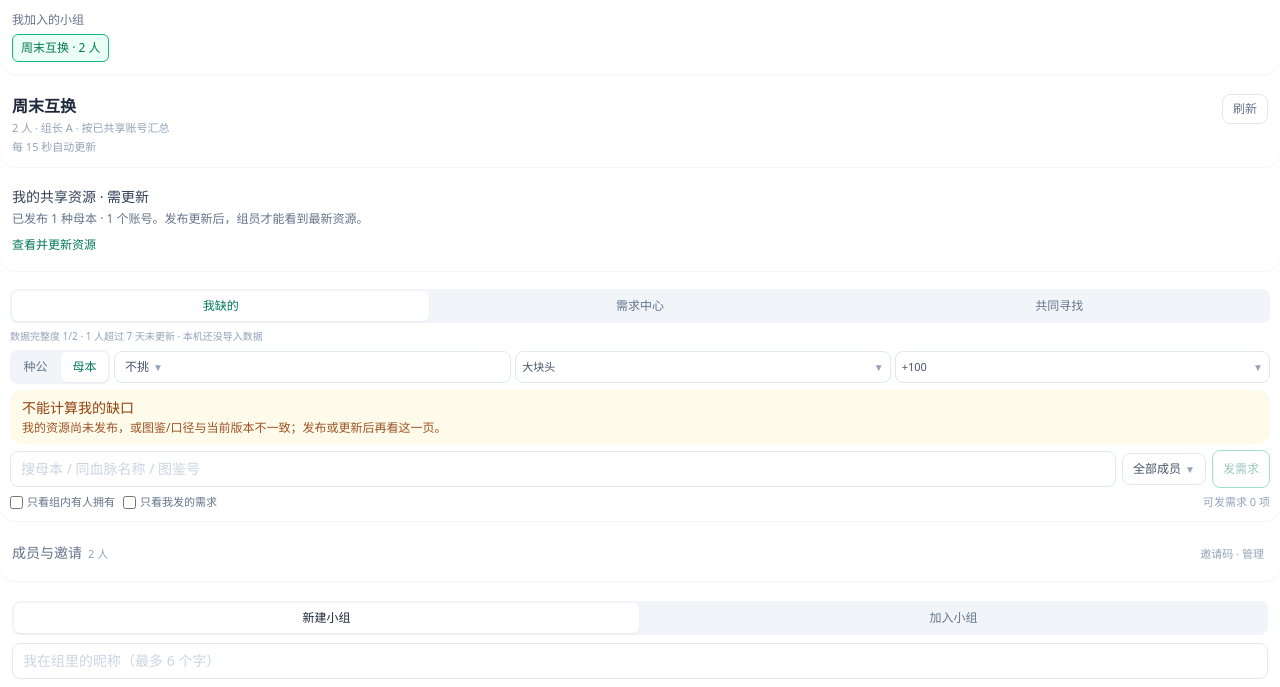
MotherSharing 入口与状态 › 日常浏览先显示发布状态，管理选号后才展开编辑器
Expected: the element with test id "mother-publication-status" shows "已发布", [12, 210, 368, 227]
Click the button with test id "mother-edit-resources" at (54, 245), box [12, 231, 96, 259]
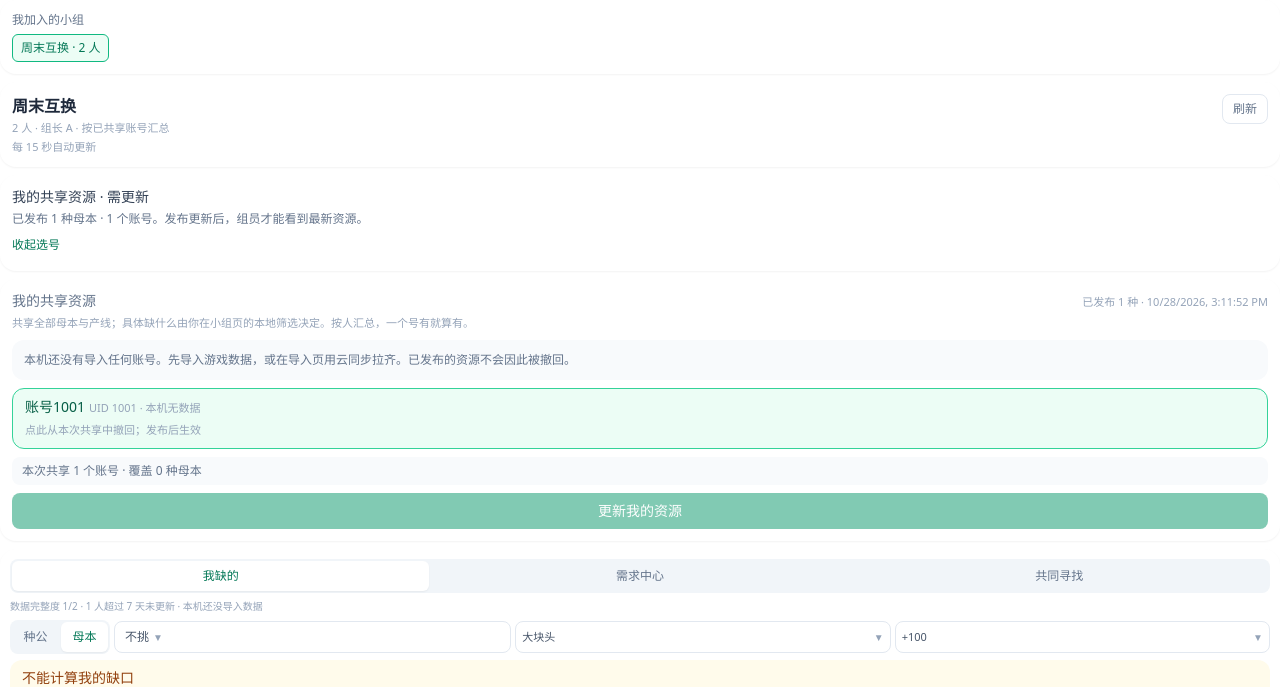
Result: the element with test id "mother-resource-editor" is shown at [0, 279, 1279, 540]
